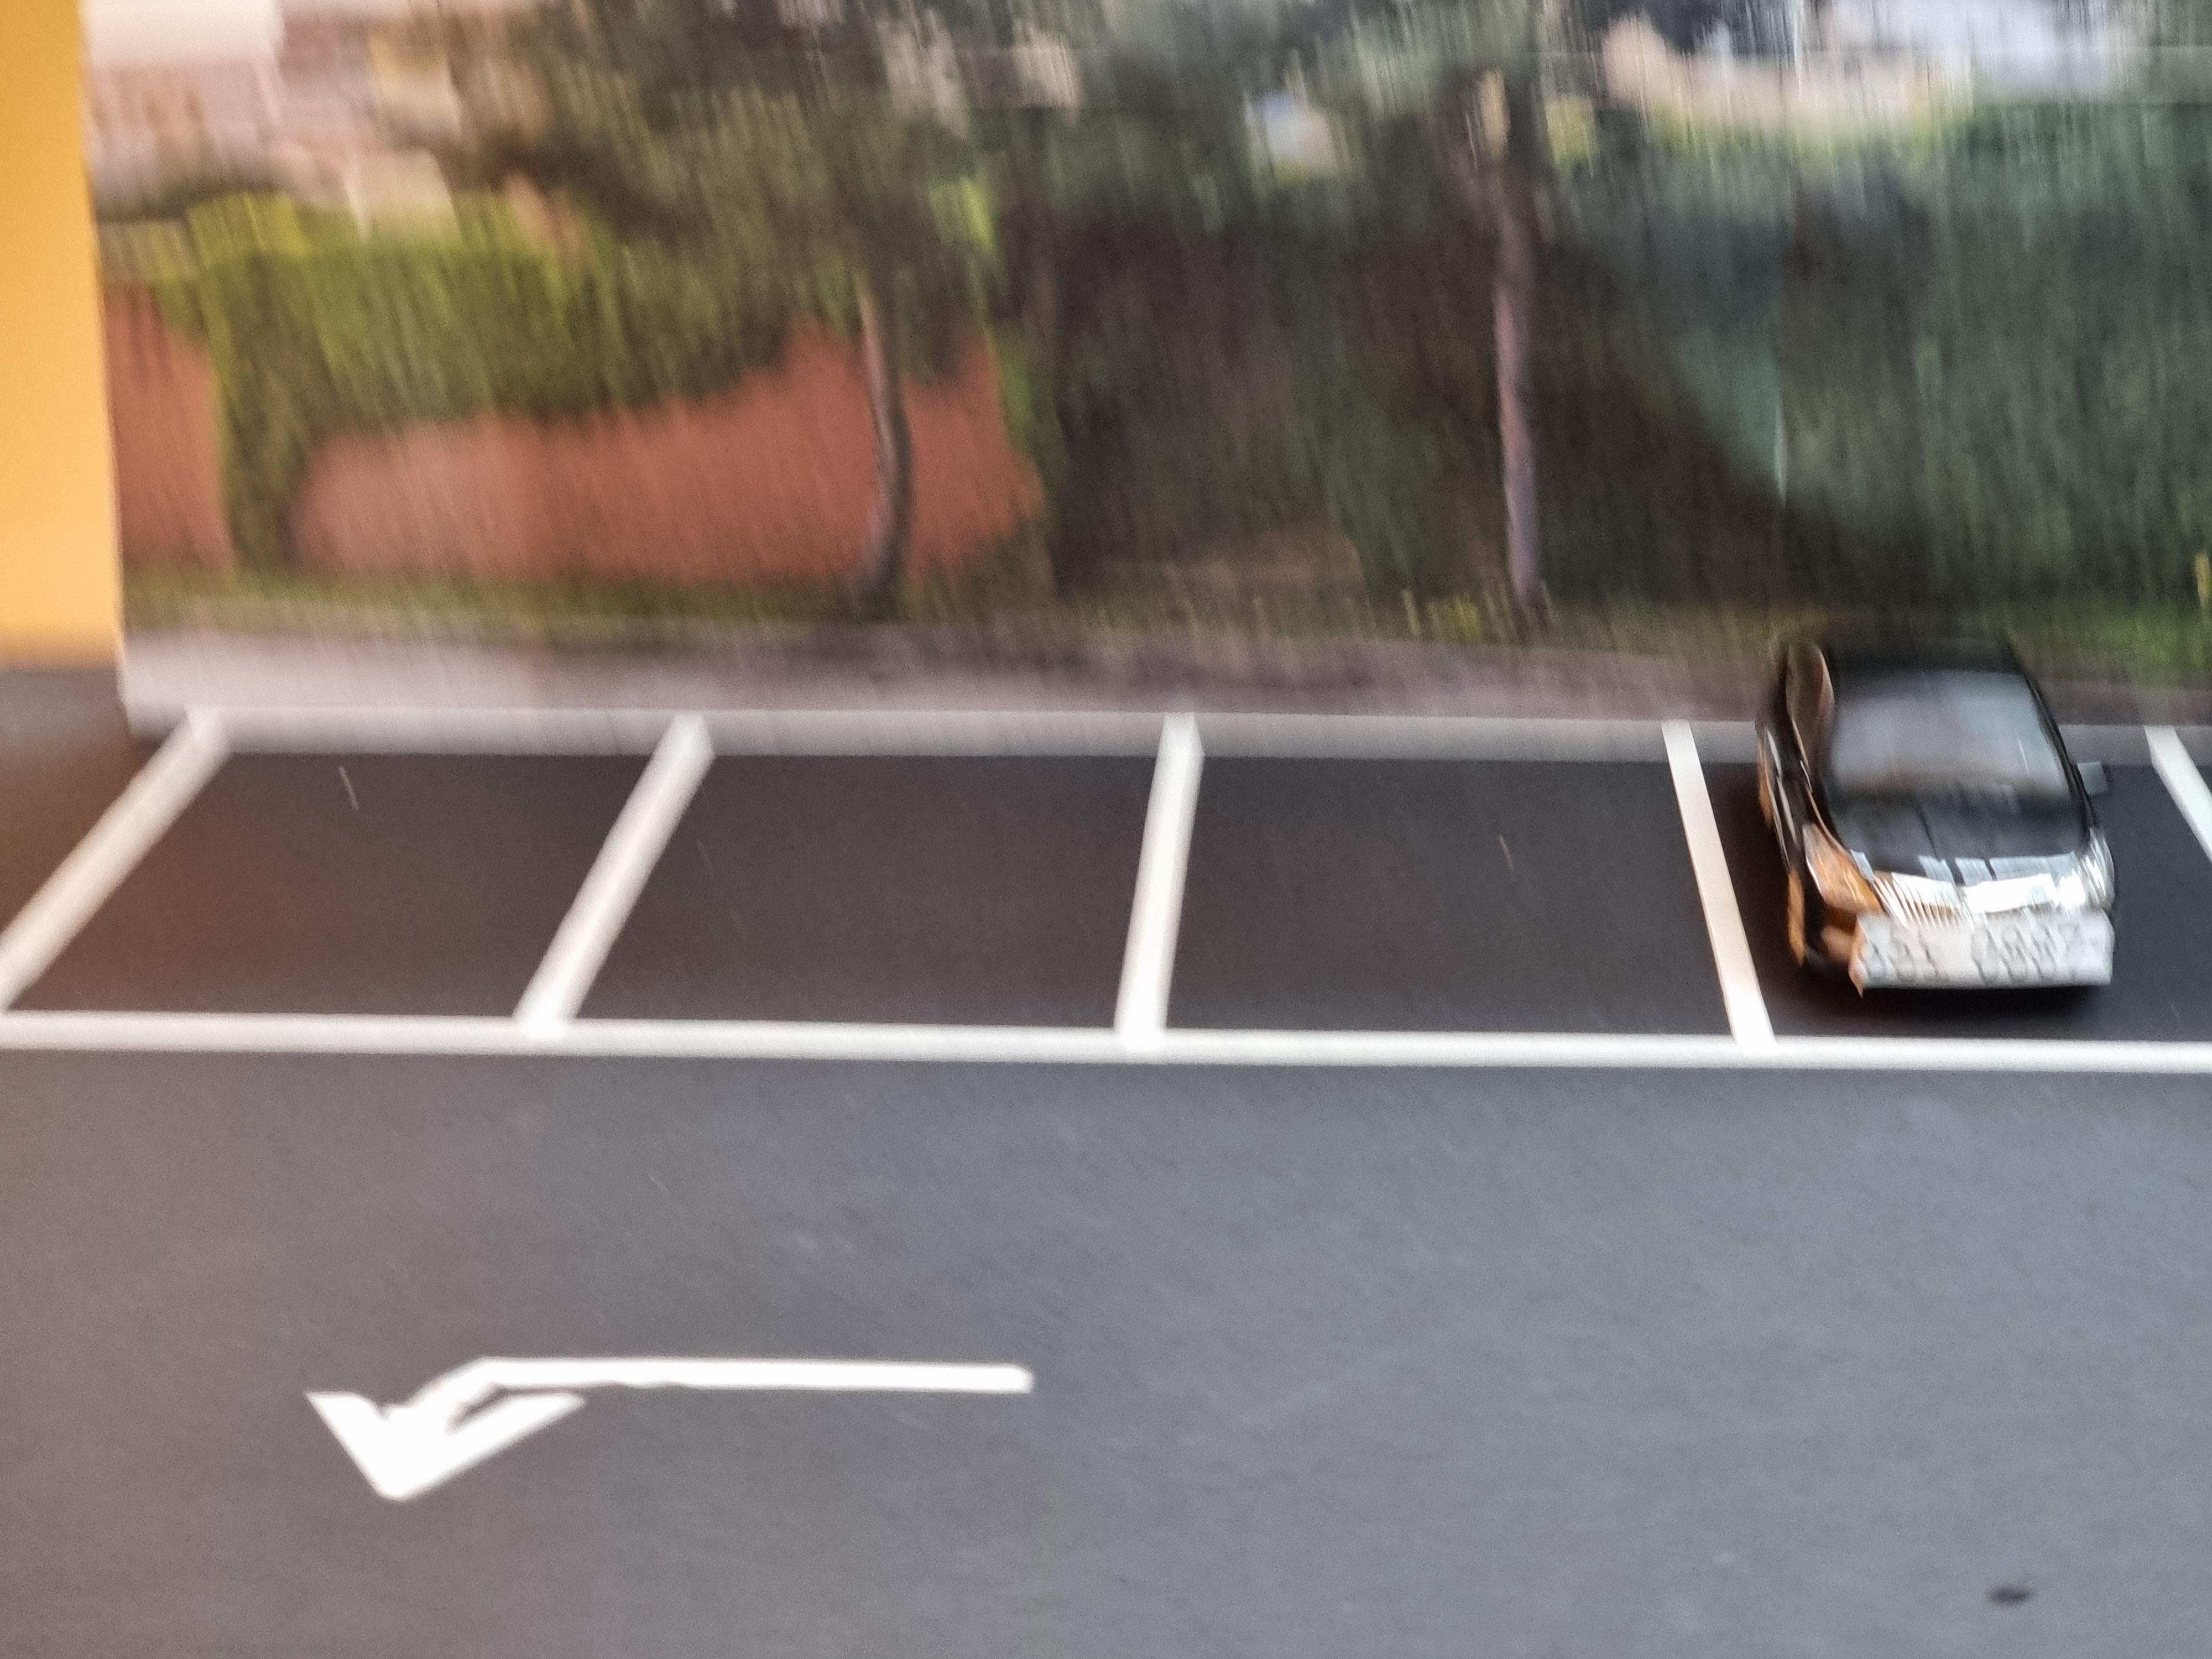empty: (1165, 693, 1724, 1071), (14, 695, 599, 1056), (614, 714, 1156, 1071)
occupied: (1736, 611, 2129, 1042)
